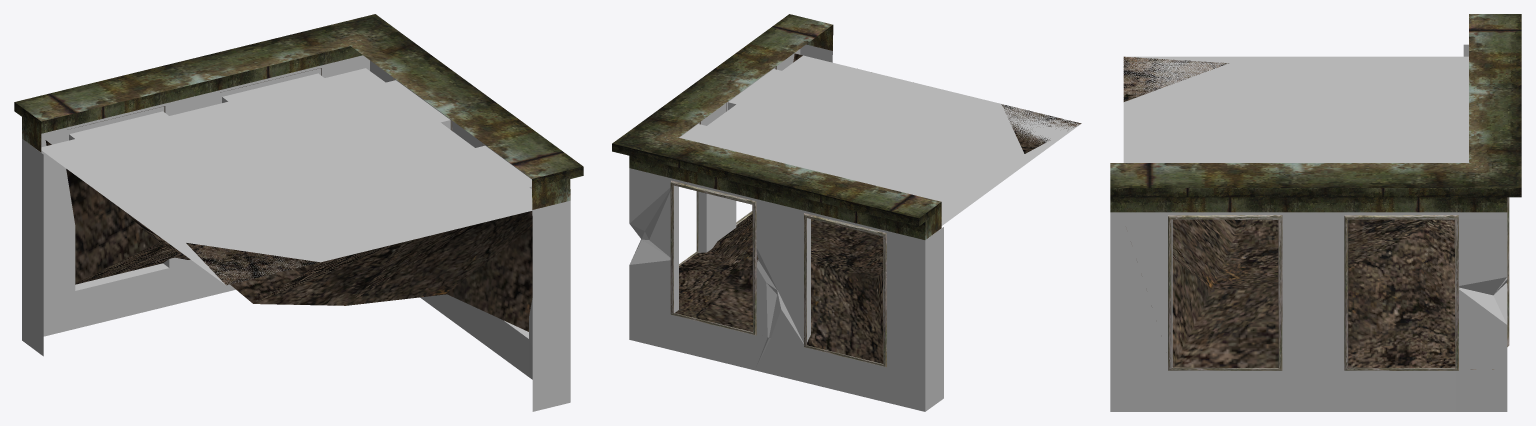
File: Store_front_7_C.fbx
The picture shows the model from 3 angles, left to right: view 1: azimuth 30°, elevation 25°; view 2: azimuth 150°, elevation 25°; view 3: azimuth 270°, elevation 25°; orthographic projection. The views are drawn at different scales.
Visible parts, largest first — view 1: Store_front_7_C; view 2: Store_front_7_C; view 3: Store_front_7_C.
Boxes of the visible parts, left/top/right/bottom form: Store_front_7_C: left=14, top=14, right=583, bottom=411; Store_front_7_C: left=612, top=14, right=1081, bottom=411; Store_front_7_C: left=1110, top=14, right=1521, bottom=411.
Size of the model in its own units: 702 by 433 by 701.
